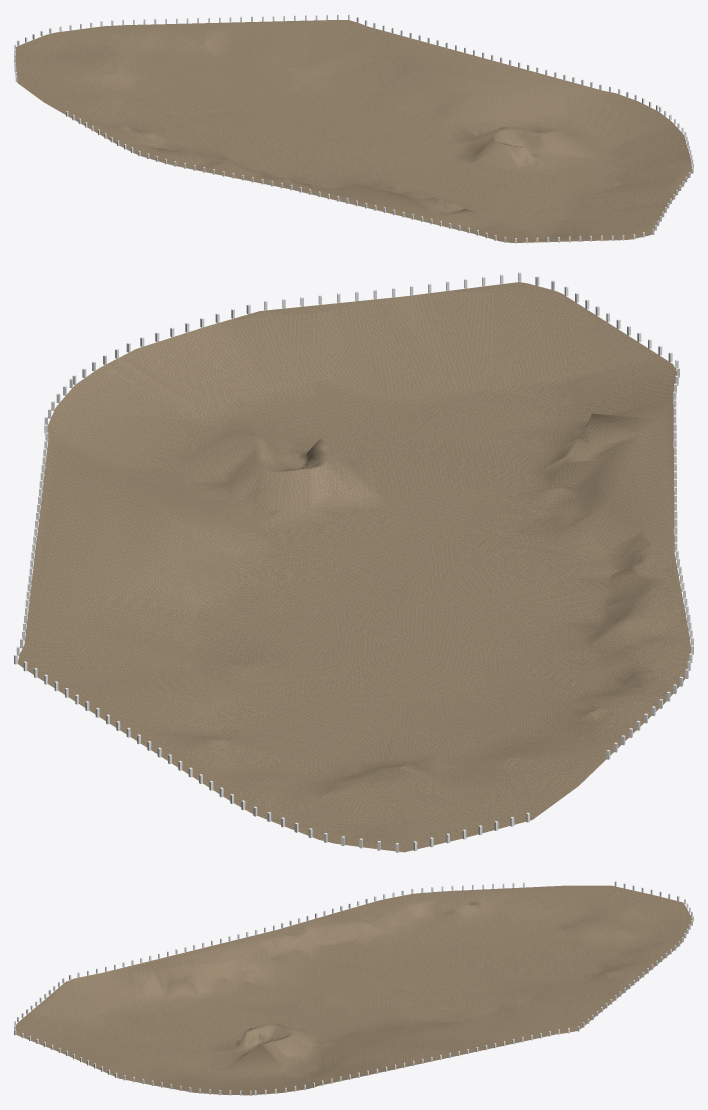
File: bamboo.dae
The picture shows the model from 3 angles, top to bottom: view 1: azimuth 30°, elevation 25°; view 2: azimuth 150°, elevation 25°; view 3: azimuth 270°, elevation 25°; orthographic projection. The views are drawn at different scales.
Parts seen in each view (by area): view 1: group_1; view 2: group_1; view 3: group_1.
Part boxes in pixels (x1,y1,x2,y2): group_1: (15, 20, 691, 242); group_1: (18, 282, 690, 852); group_1: (15, 885, 692, 1095).
Bounding box in the file's own units: 3831 × 5239 × 157.
Materials: 2 (1 with a texture image).
